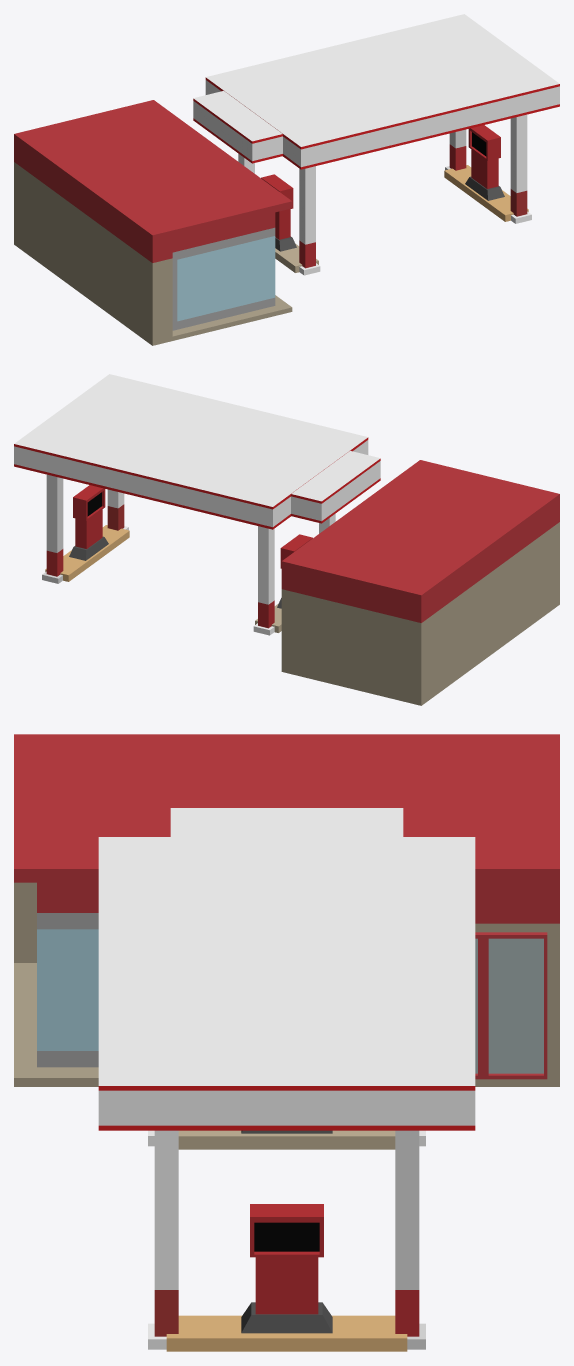
File: Gas Station.fbx
3 views of the same model, one above another, from view 1: azimuth 30°, elevation 25°; view 2: azimuth 150°, elevation 25°; view 3: azimuth 270°, elevation 25° (orthographic). The views are drawn at different scales.
Parts seen in each view (by area): view 1: Cube.011, Cube.004, Cube.005, Cube, Cube.001, Cube.009, Cube.007, Cube.003, Cube.010; view 2: Cube.011, Cube.004, Cube.005, Cube.003, Cube.002, Cube.009, Cube, Cube.007; view 3: Cube.004, Cube.011, Cube.006, Cube.005, Cube.009, Cube, Cube.003, Cube.010.
Part boxes in pixels (x1=…): Cube.011: x1=14, y1=100, x2=292, y2=345; Cube.004: x1=193, y1=14, x2=559, y2=169; Cube.005: x1=465, y1=125, x2=504, y2=200; Cube: x1=510, y1=114, x2=531, y2=223; Cube.001: x1=299, y1=166, x2=320, y2=275; Cube.009: x1=444, y1=165, x2=528, y2=221; Cube.007: x1=261, y1=174, x2=296, y2=251; Cube.003: x1=445, y1=129, x2=466, y2=170; Cube.010: x1=275, y1=243, x2=318, y2=272; Cube.011: x1=281, y1=460, x2=559, y2=705; Cube.004: x1=14, y1=374, x2=380, y2=529; Cube.005: x1=69, y1=485, x2=108, y2=560; Cube.003: x1=42, y1=474, x2=63, y2=583; Cube.002: x1=253, y1=526, x2=274, y2=635; Cube.009: x1=45, y1=525, x2=129, y2=581; Cube: x1=107, y1=489, x2=128, y2=530; Cube.007: x1=277, y1=534, x2=312, y2=608; Cube.004: x1=98, y1=808, x2=475, y2=1130; Cube.011: x1=14, y1=734, x2=559, y2=1086; Cube.006: x1=475, y1=932, x2=547, y2=1079; Cube.005: x1=241, y1=1204, x2=332, y2=1333; Cube.009: x1=166, y1=1315, x2=407, y2=1351; Cube: x1=148, y1=1130, x2=178, y2=1349; Cube.003: x1=395, y1=1130, x2=425, y2=1349; Cube.010: x1=178, y1=1130, x2=395, y2=1149.
Size of the model in its own units: 812 by 256 by 454.
